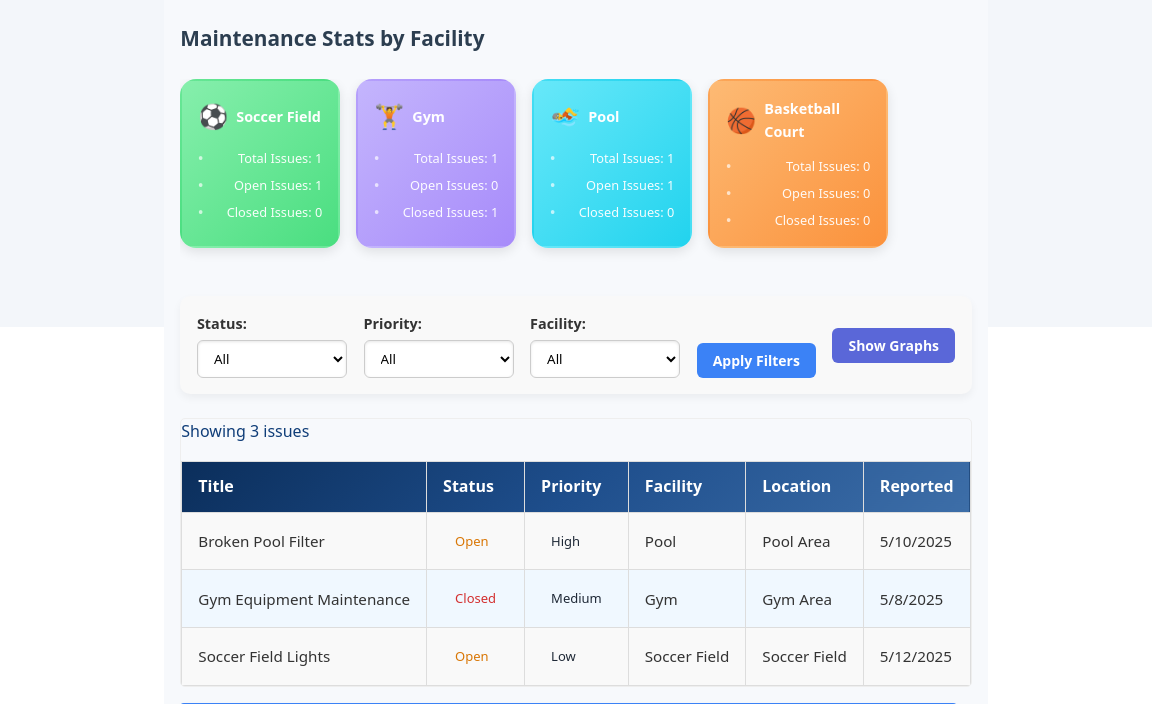
it: MaintenanceReportPage Component › displays results count correctly
(page scrolled)
Expected: the text "Showing 3 issues" is shown, [181,420,309,442]
// Apply the filters
Click the button "Apply Filters". click: (756, 361)
box: [697,343,816,378]
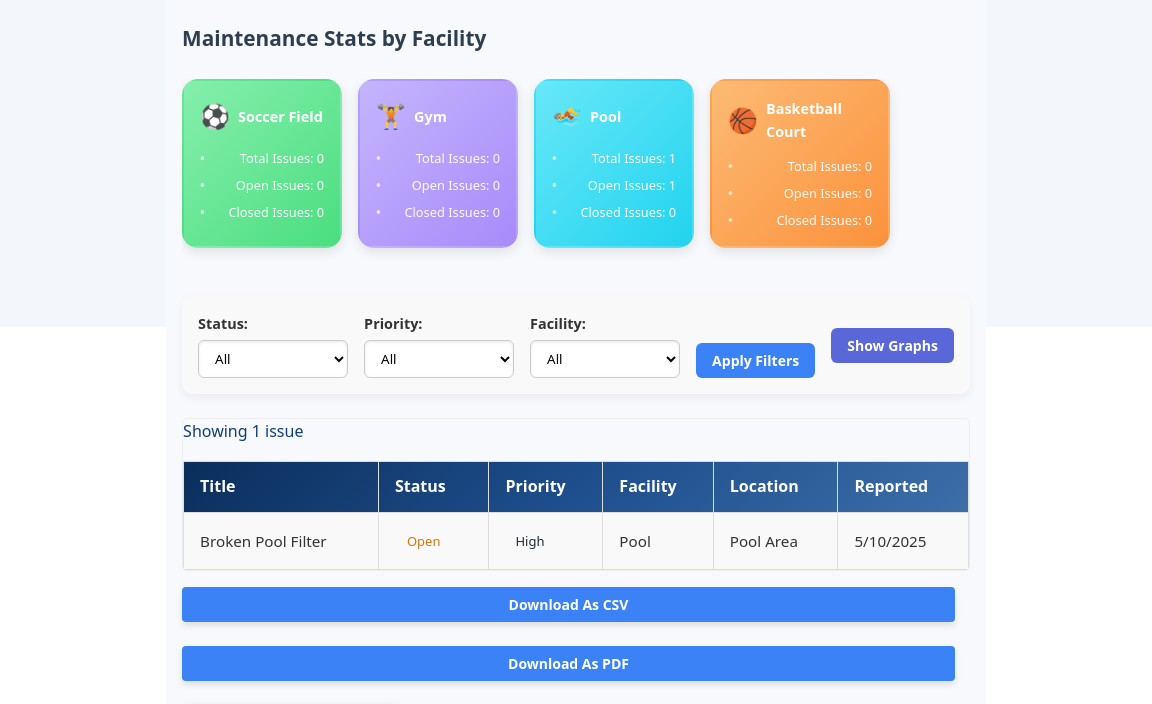
Expected: the text "Showing 1 issue" is shown, [183,420,303,442]
